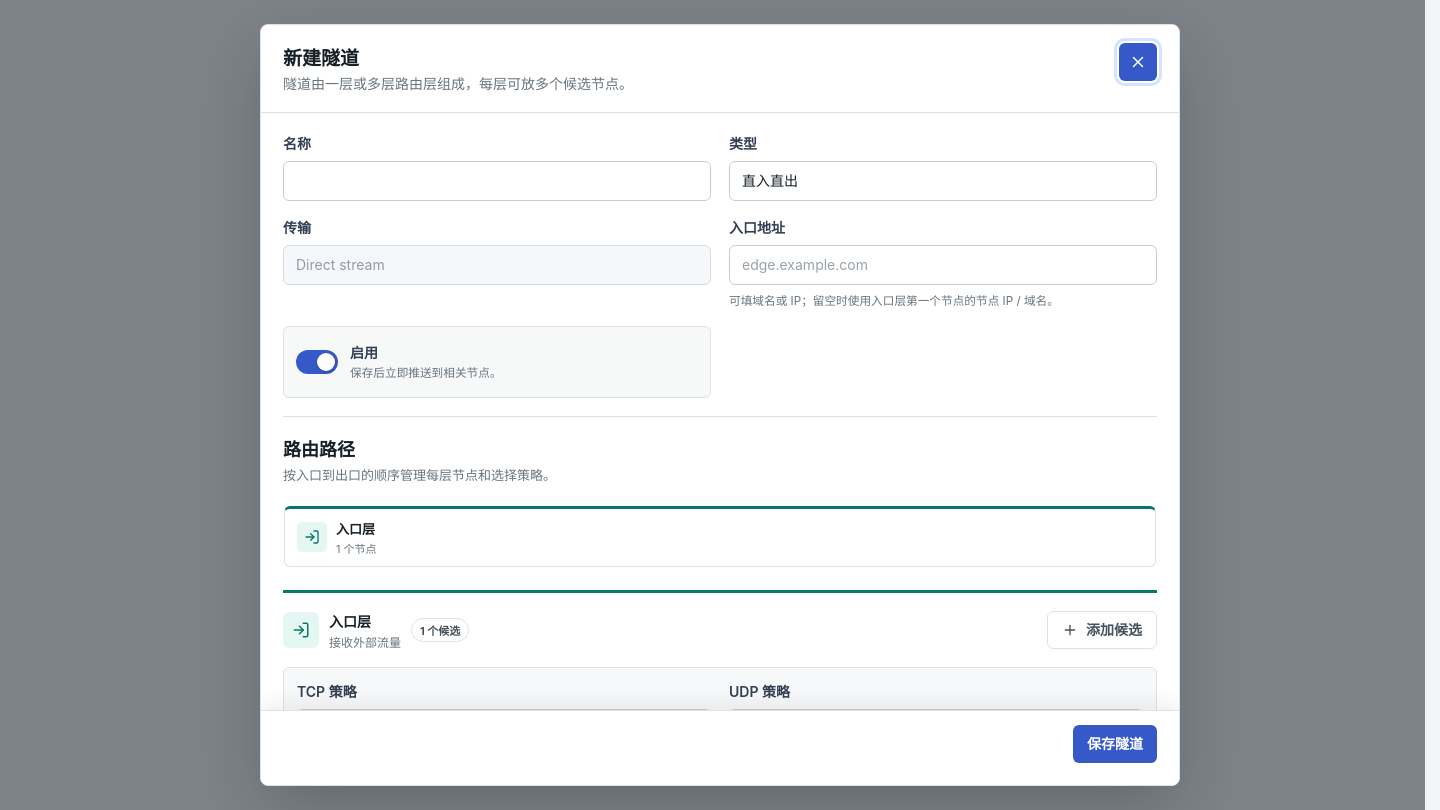
Test case: tunnels and forwards pages › hides revoked nodes in the tunnel selector
Select "链式隧道" in the dropdown labelled "类型" at (943, 181), box [729,161,1157,201]
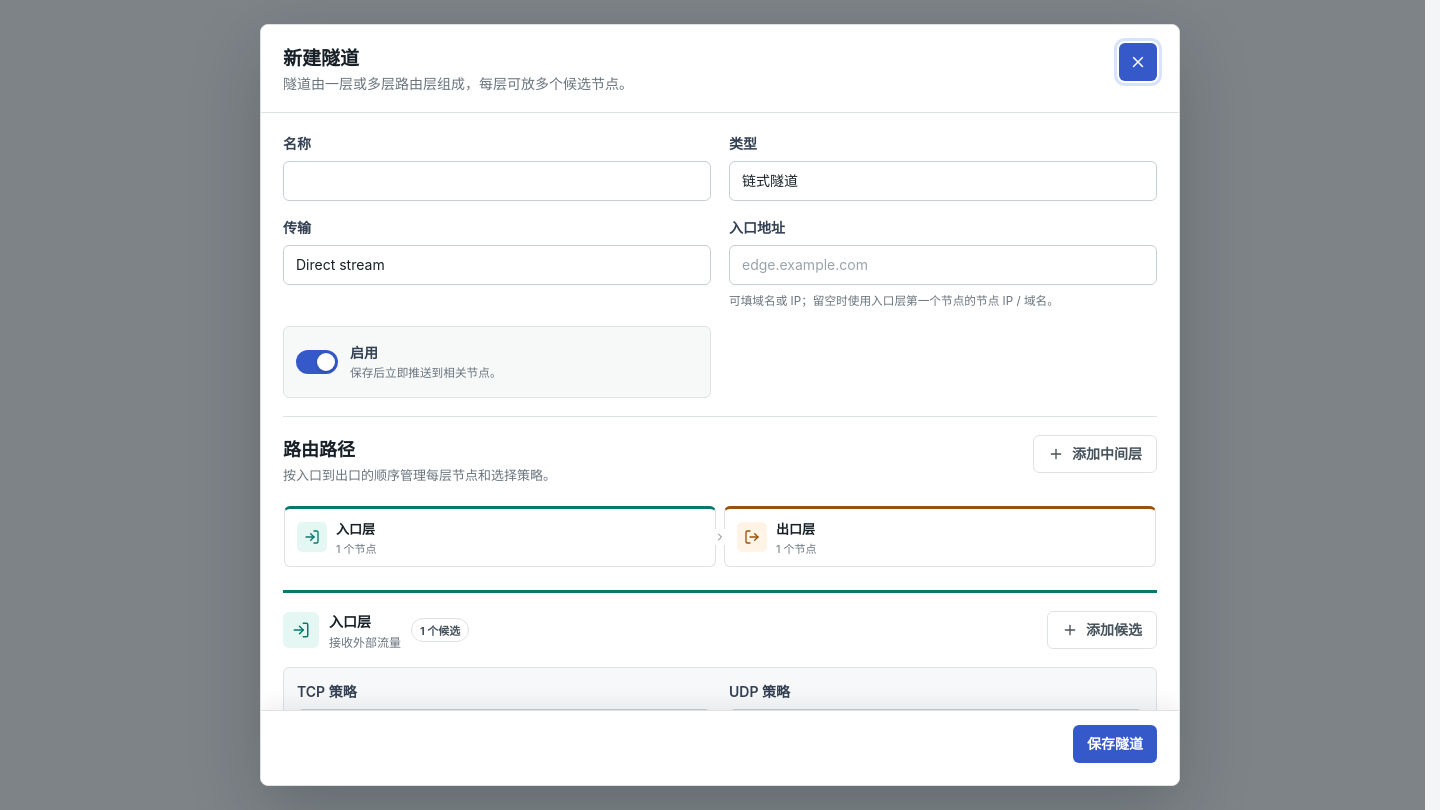
Now the button "添加中间层" is shown, box [1033,435,1157,473]
